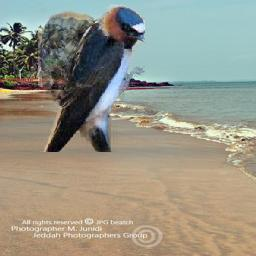Swallow: (39, 4, 146, 152)
